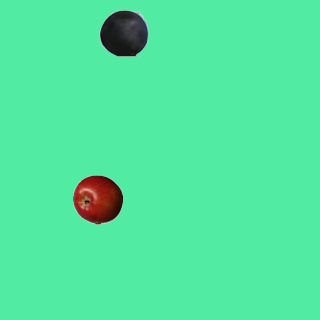Apple Braeburn: (72, 174, 122, 224)
Grape Blue: (98, 7, 148, 57)
